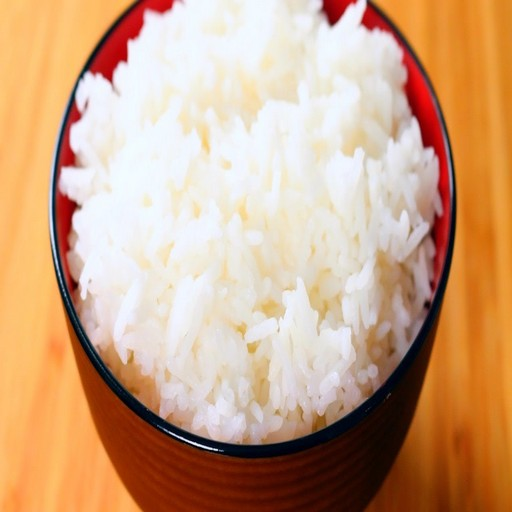rice: (152, 31, 355, 401)
